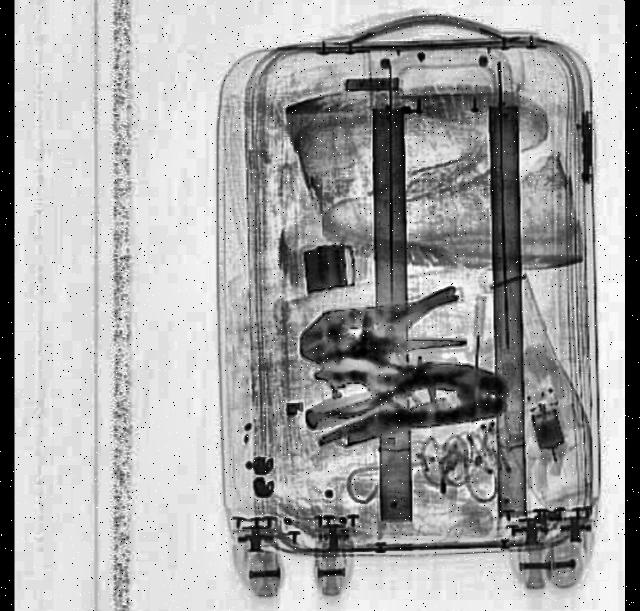Pliers: (312, 350, 509, 447), (310, 346, 456, 420)
